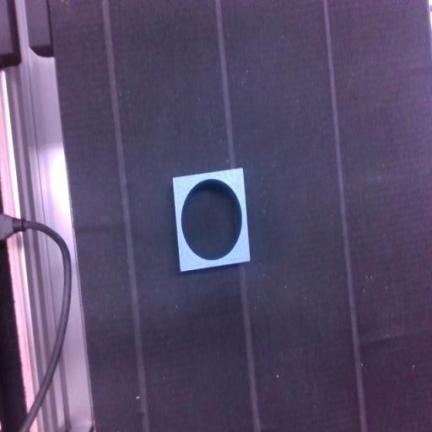square: (182, 181, 242, 260)
